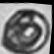correct: (0, 2, 54, 54)
